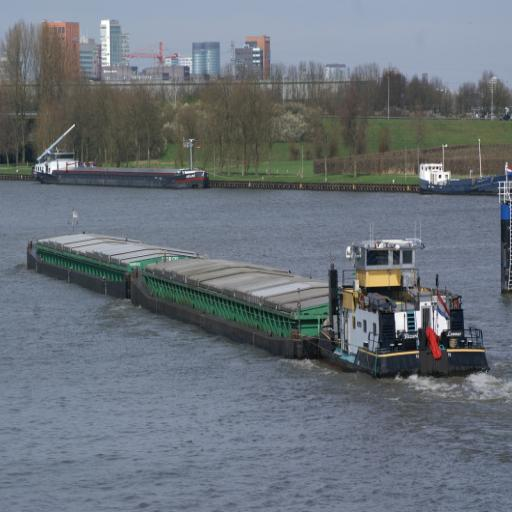tugboat: (317, 220, 493, 392)
